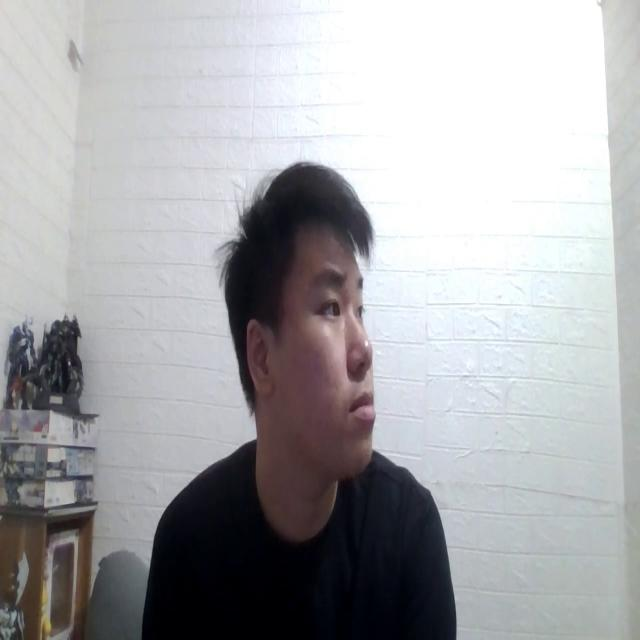student: (144, 155, 459, 640)
